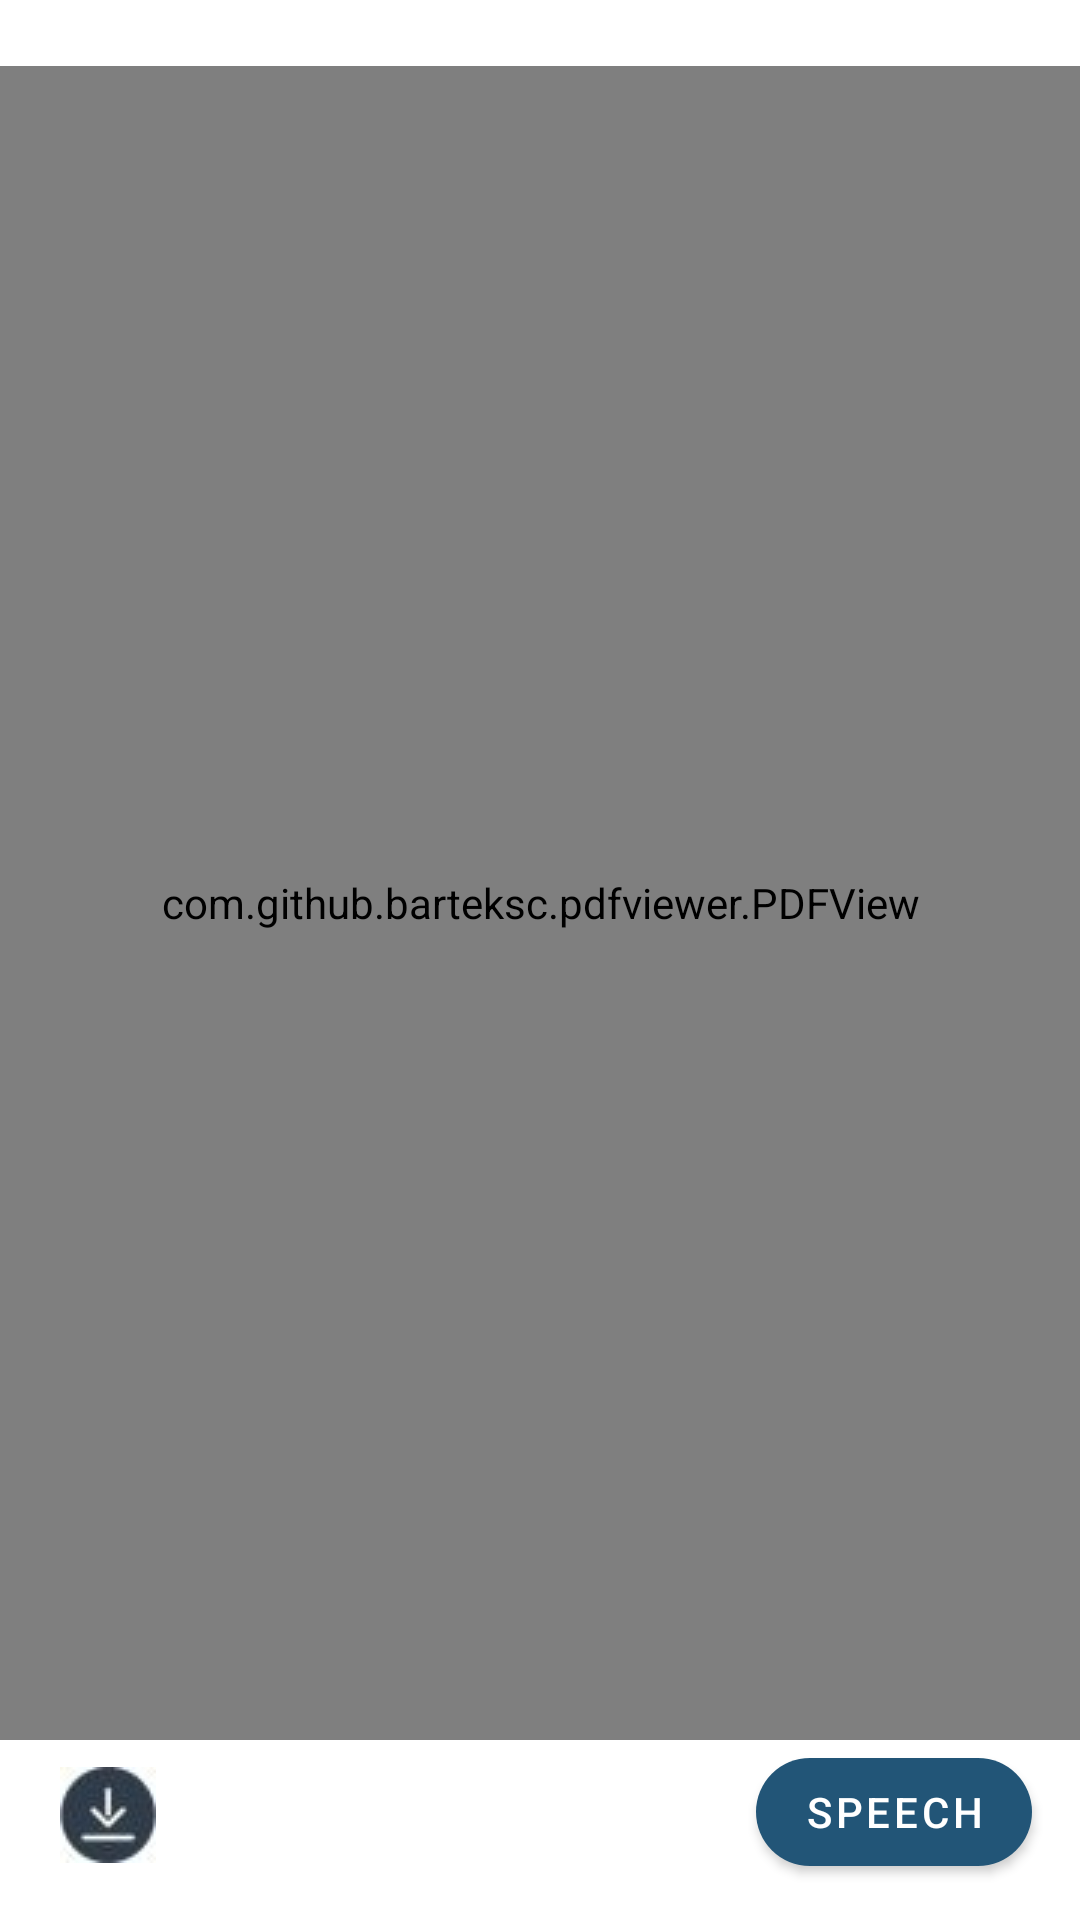

Where icons sit on this 1080 × 1920 app screen, as [x1,y1,x2,y2]:
download pdf: [60,1767,156,1863]
